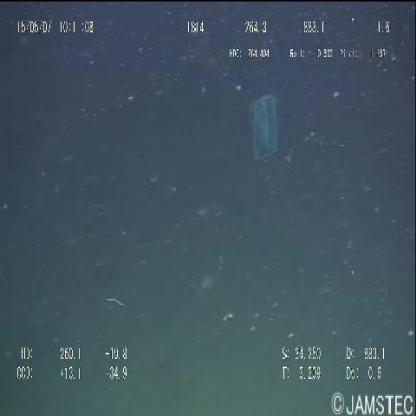Rác: (249, 94, 278, 162)
